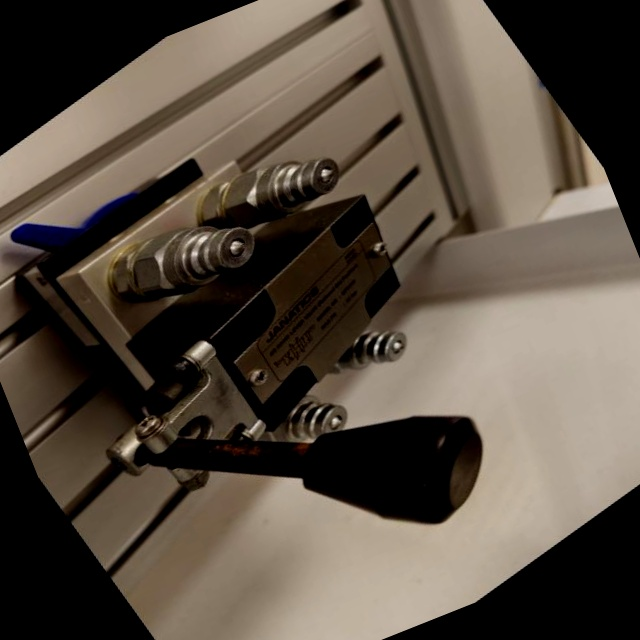4by3 hand lever valve: (0, 0, 591, 640)
